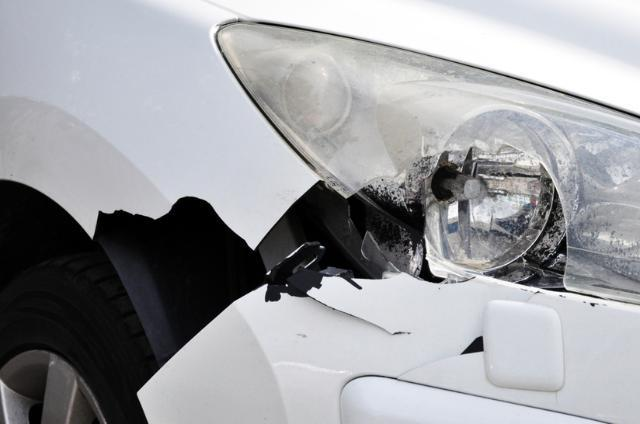Bumper: (123, 241, 638, 424)
Fender: (68, 167, 296, 255)
Light: (298, 47, 640, 281)
